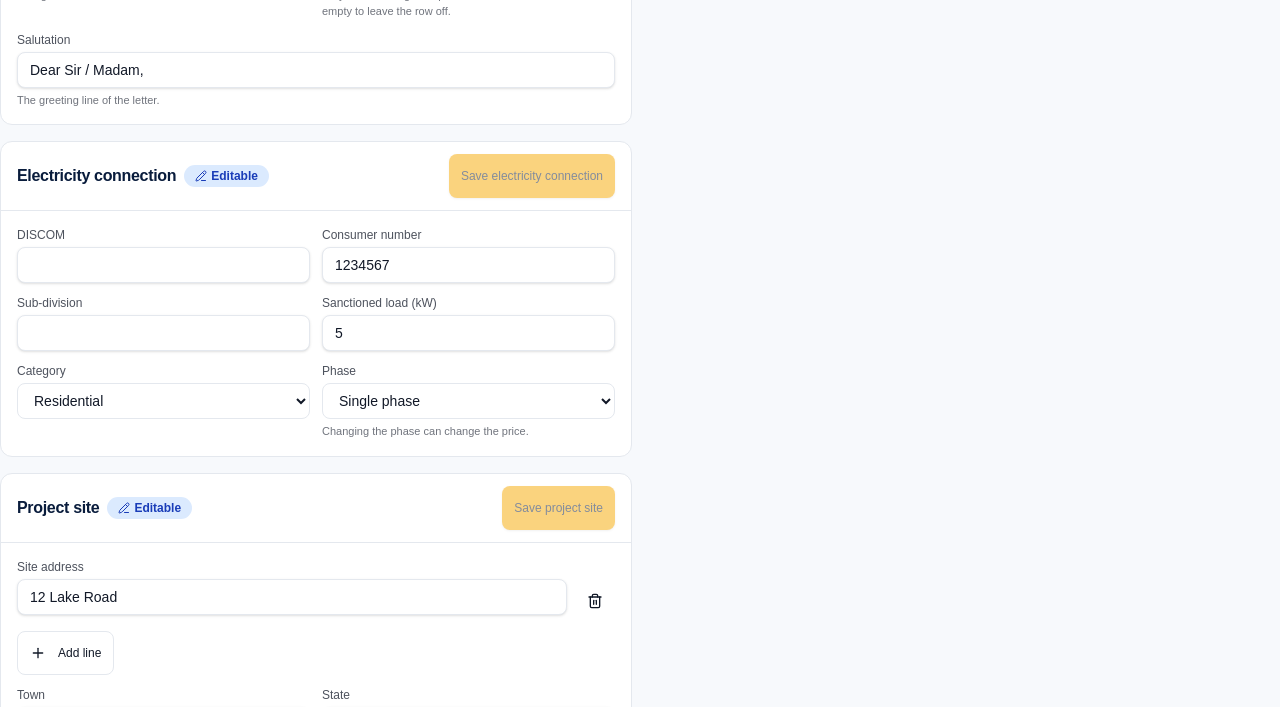
Test: saving one section at a time › marks unsaved changes, reports dirty, sends {base_revision, section, whole value}, and logs the change
(page scrolled)
Type "WBSEDCL" into the field labelled "DISCOM".
click(164, 265); type("WBSEDCL")  # box [17, 247, 310, 283]
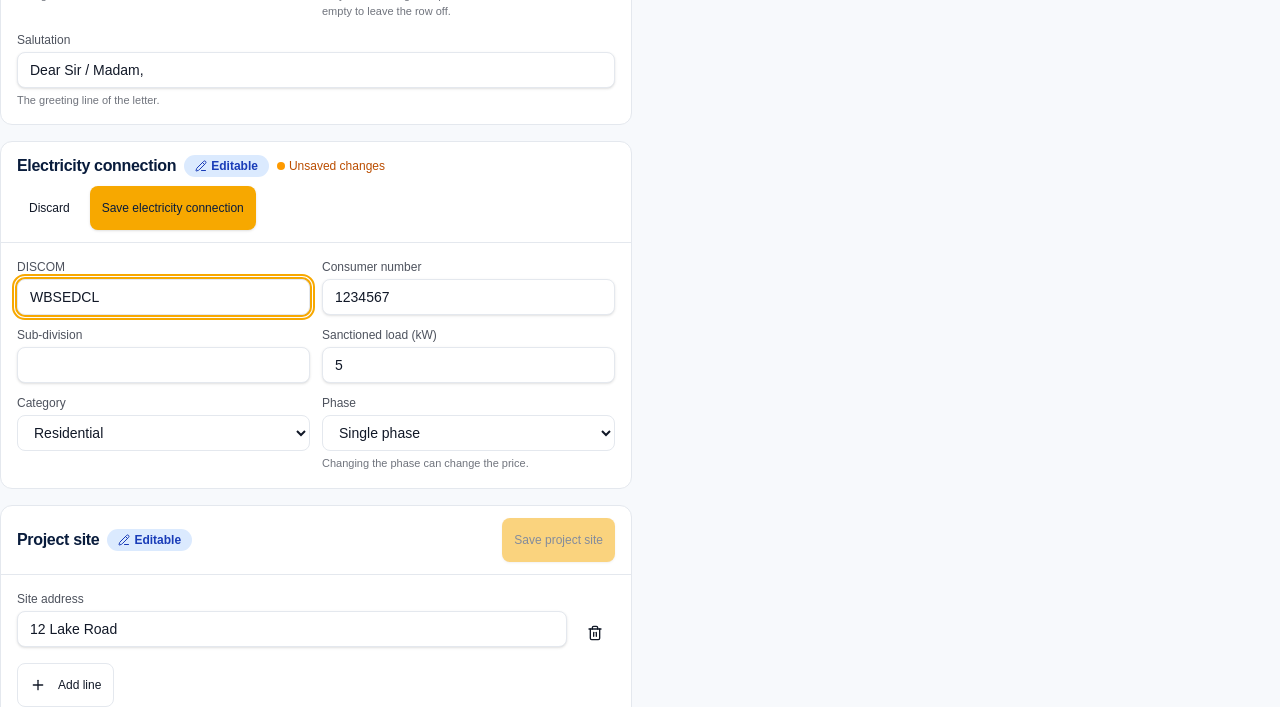
Expected: the element with test id "unsaved-connection" is shown, [277, 158, 385, 174]
Click the button "Save electricity connection".
click(173, 208)  # box [90, 186, 256, 230]
(page scrolled)
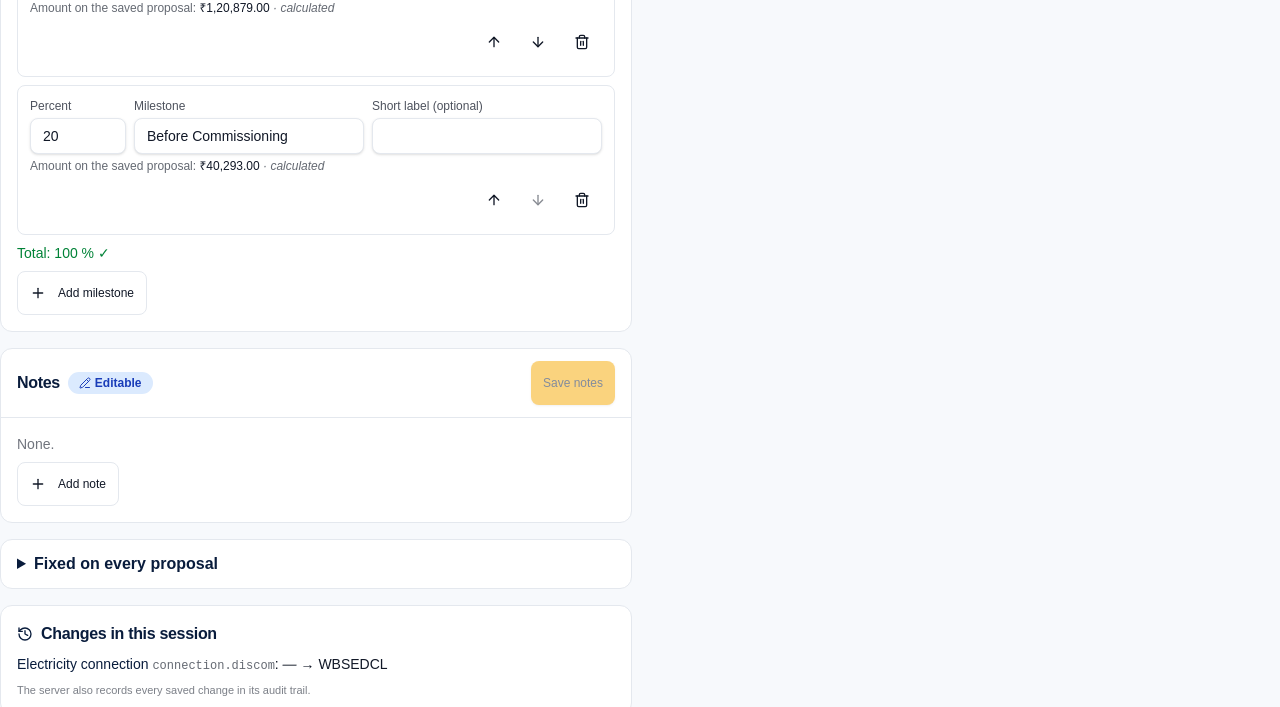
Expected: the element with test id "unsaved-connection" is gone
Expected: the text "connection.discom" is shown, [152, 658, 275, 672]
Expected: the text "WBSEDCL" is shown, [318, 656, 388, 672]
